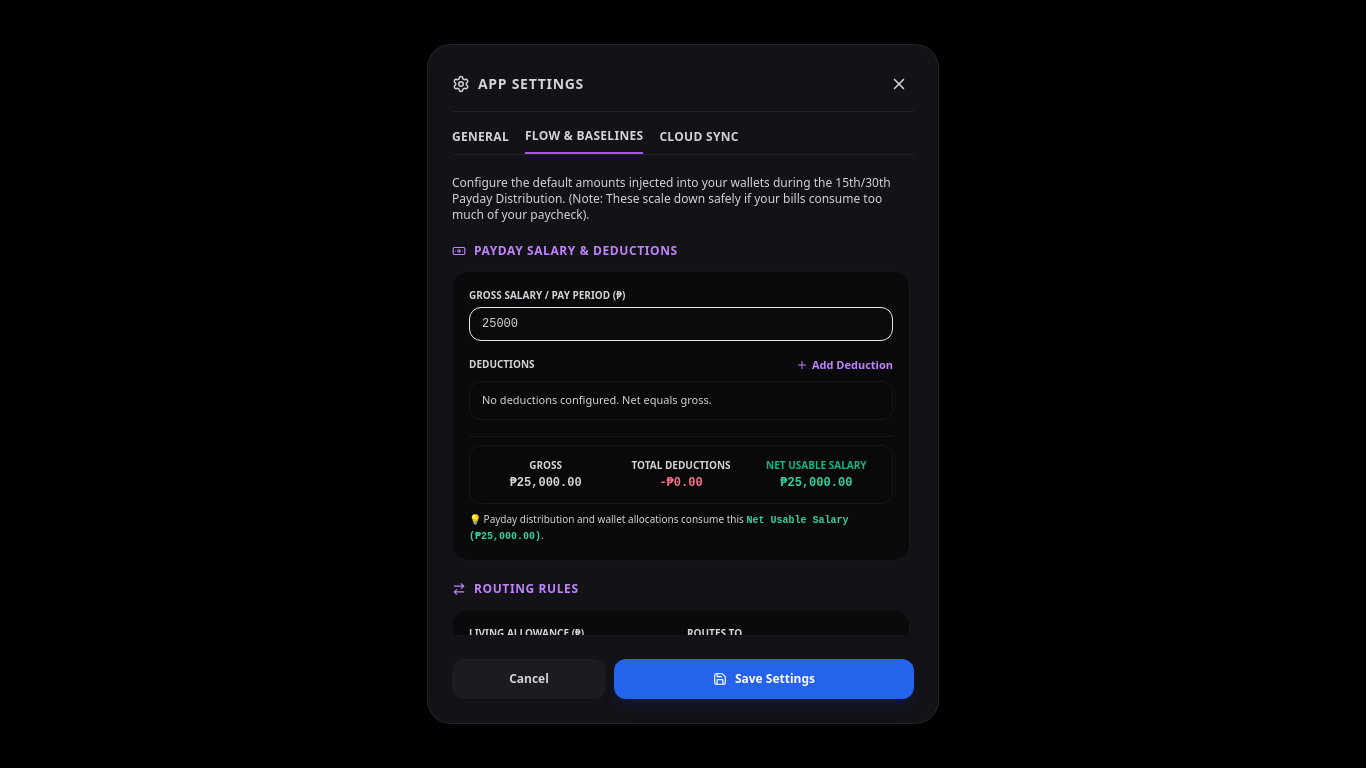
SettingsModal - Salary Gross & Deductions › adds a fixed deduction and recalculates net salary in real time
The image size is (1366, 768).
Click the button "Add Deduction" at [844, 365], box [796, 357, 893, 373]
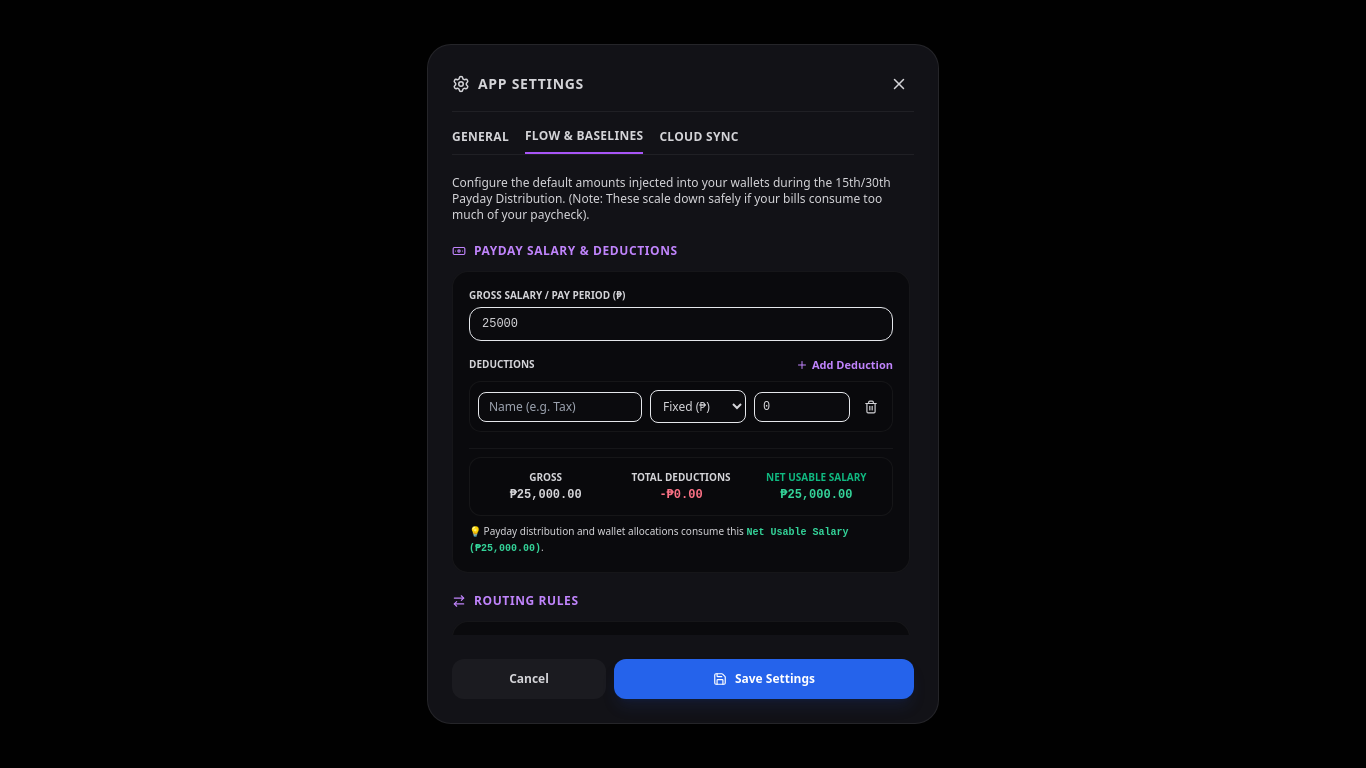
Type "Income Tax" into the field named "Deduction name" at [560, 407], box [478, 392, 642, 422]
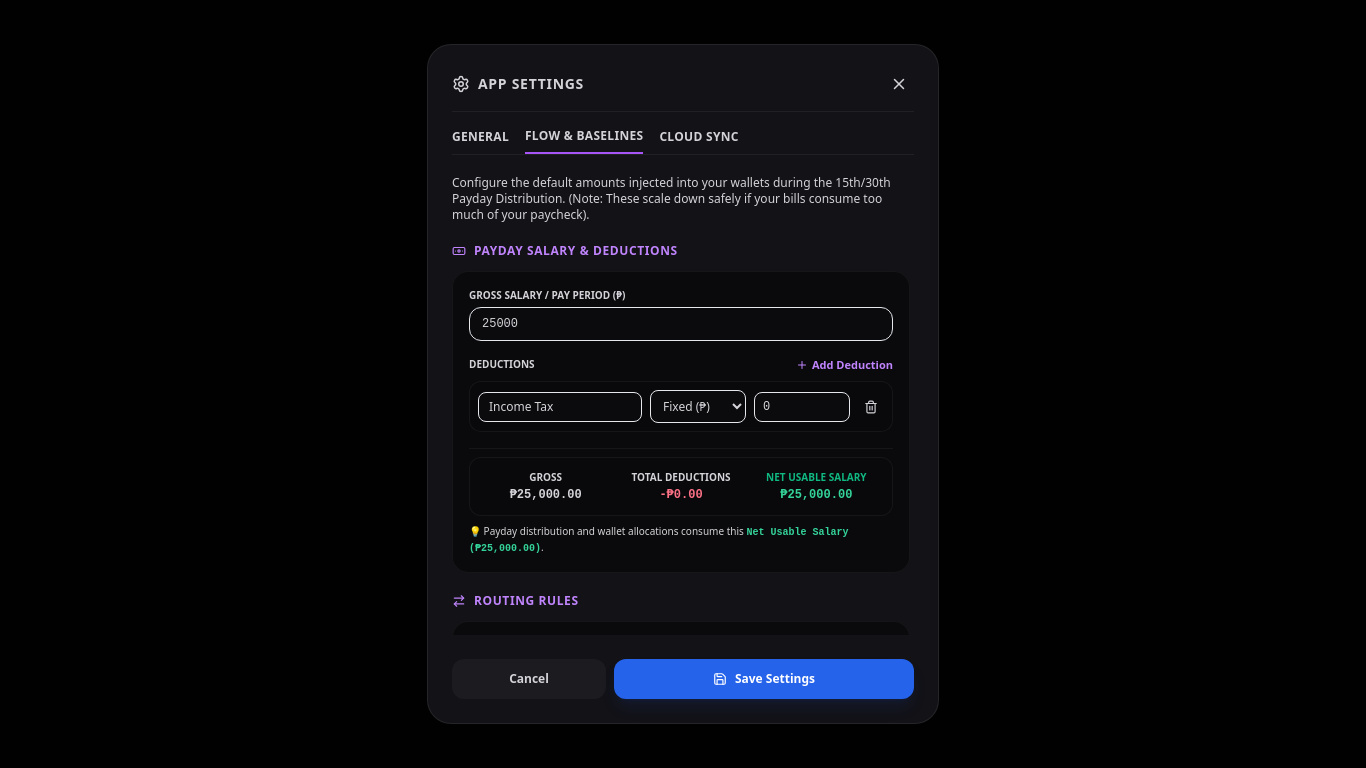
Type "2500" into the number field named "Deduction value" at [802, 407], box [754, 392, 850, 422]
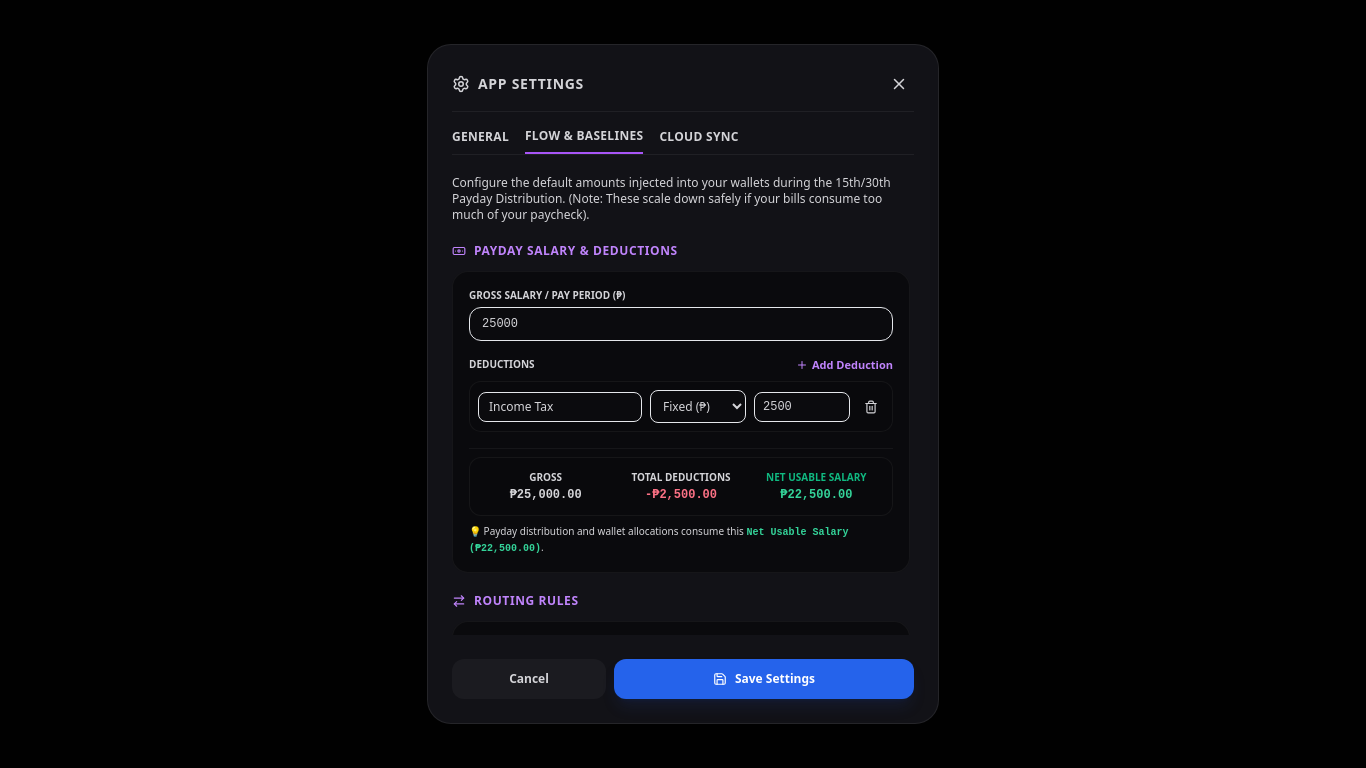
Now the text with test id "salary-deductions-display" reads "-₱2,500.00", box [645, 488, 717, 502]
Now the text with test id "salary-net-display" reads "₱22,500.00", box [780, 488, 852, 502]
